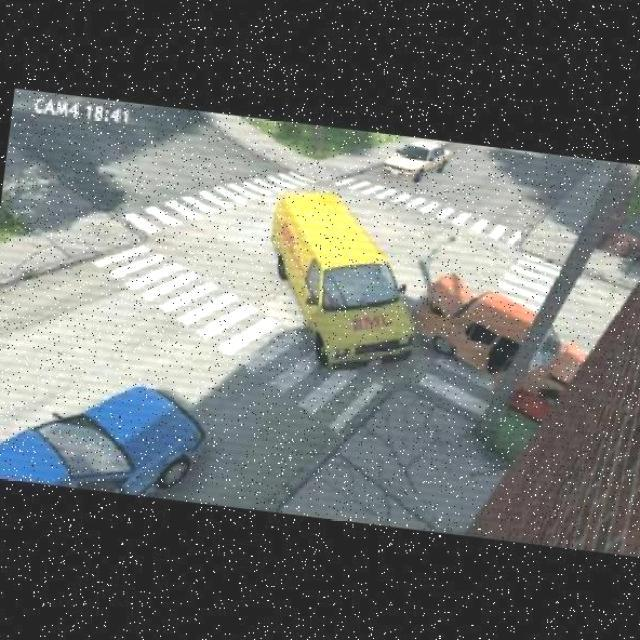accident: (275, 238, 541, 399)
